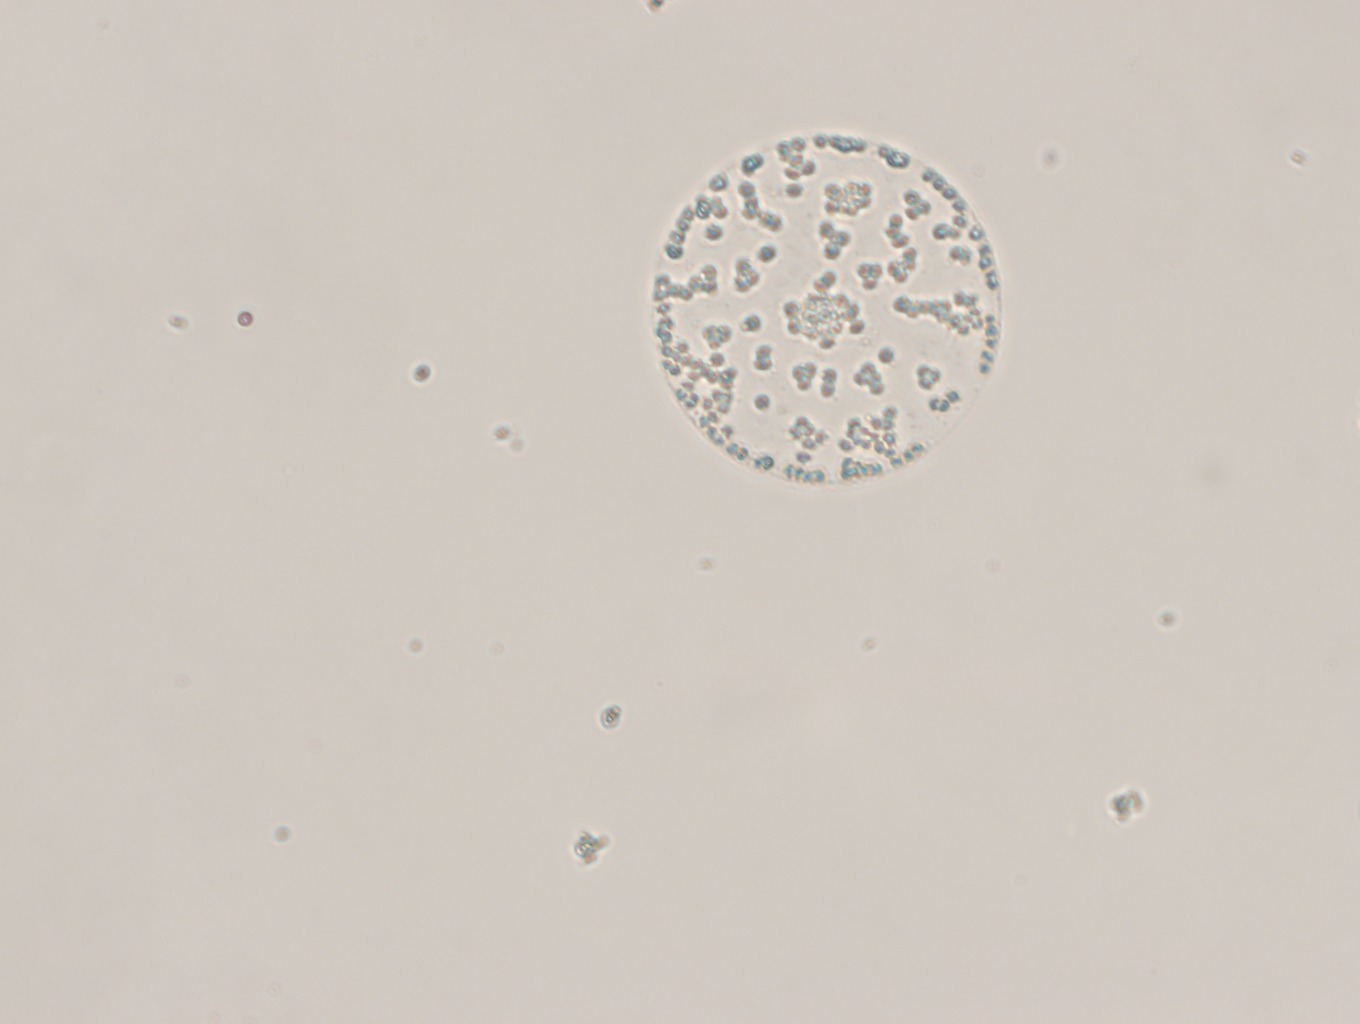coscinodiscus: (642, 119, 1014, 490)
